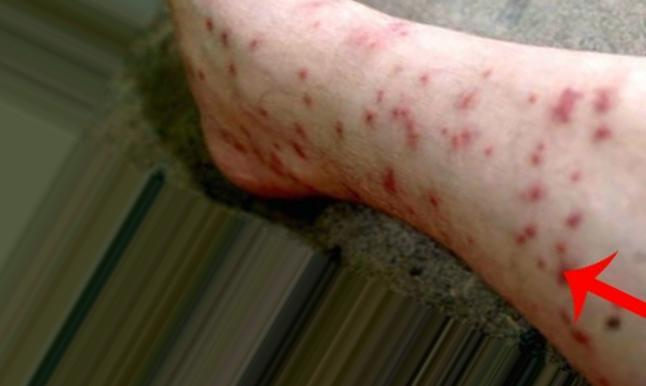Fleas: (382, 100, 435, 156), (209, 124, 254, 162), (281, 129, 317, 170), (347, 25, 396, 55), (548, 84, 581, 124), (585, 81, 617, 116), (589, 116, 619, 145), (520, 182, 549, 212), (238, 102, 272, 125), (514, 223, 540, 251), (451, 126, 475, 154), (266, 148, 287, 178), (603, 309, 628, 334), (455, 91, 478, 118), (296, 91, 320, 114), (413, 68, 437, 89), (527, 142, 545, 169), (570, 328, 591, 350), (381, 167, 395, 195), (559, 307, 576, 330), (219, 32, 234, 54), (565, 212, 582, 231), (427, 192, 441, 215), (223, 59, 238, 79), (553, 240, 567, 260), (296, 66, 312, 83), (331, 122, 344, 142), (479, 67, 495, 83), (361, 112, 377, 127), (248, 39, 264, 54), (202, 11, 213, 31), (527, 89, 536, 107)
